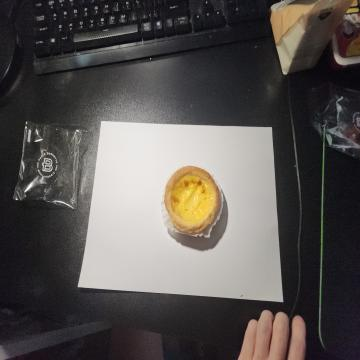EggTart: (163, 165, 219, 235)
